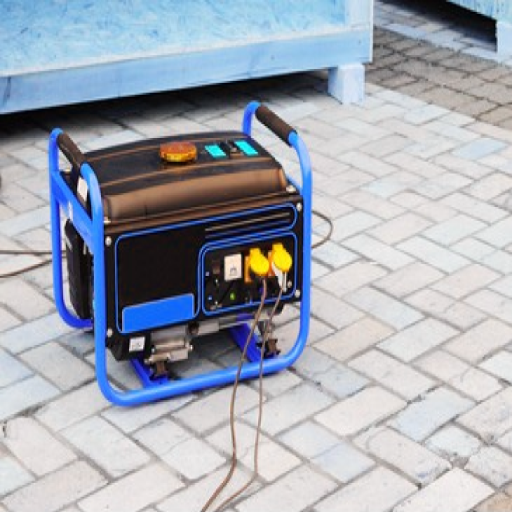portable_generator: (49, 100, 313, 406)
